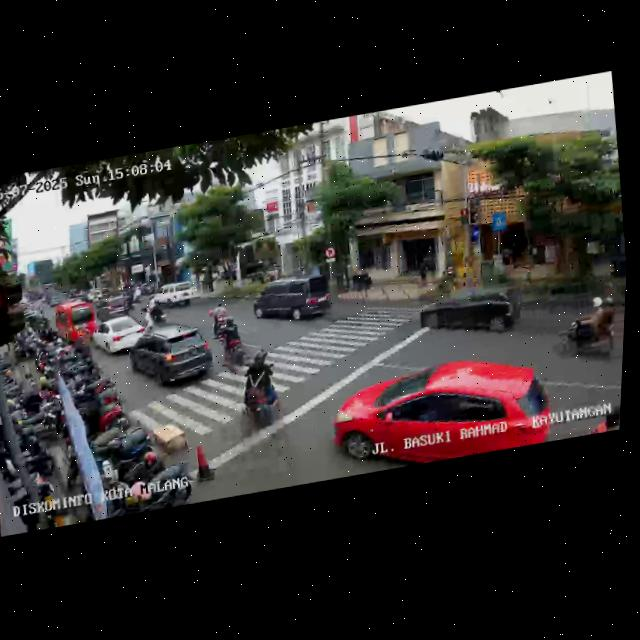car: (326, 343, 557, 478), (415, 278, 526, 348), (124, 317, 217, 395), (249, 269, 336, 330), (89, 312, 147, 361), (52, 296, 99, 342), (151, 278, 198, 312), (93, 293, 131, 323)
motorcycle: (544, 289, 626, 374), (236, 347, 291, 443), (217, 315, 251, 375), (206, 301, 232, 343), (144, 294, 170, 328)
